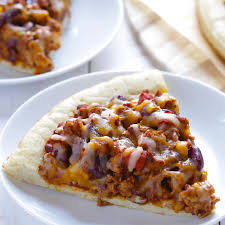pizza: (5, 67, 223, 223)
